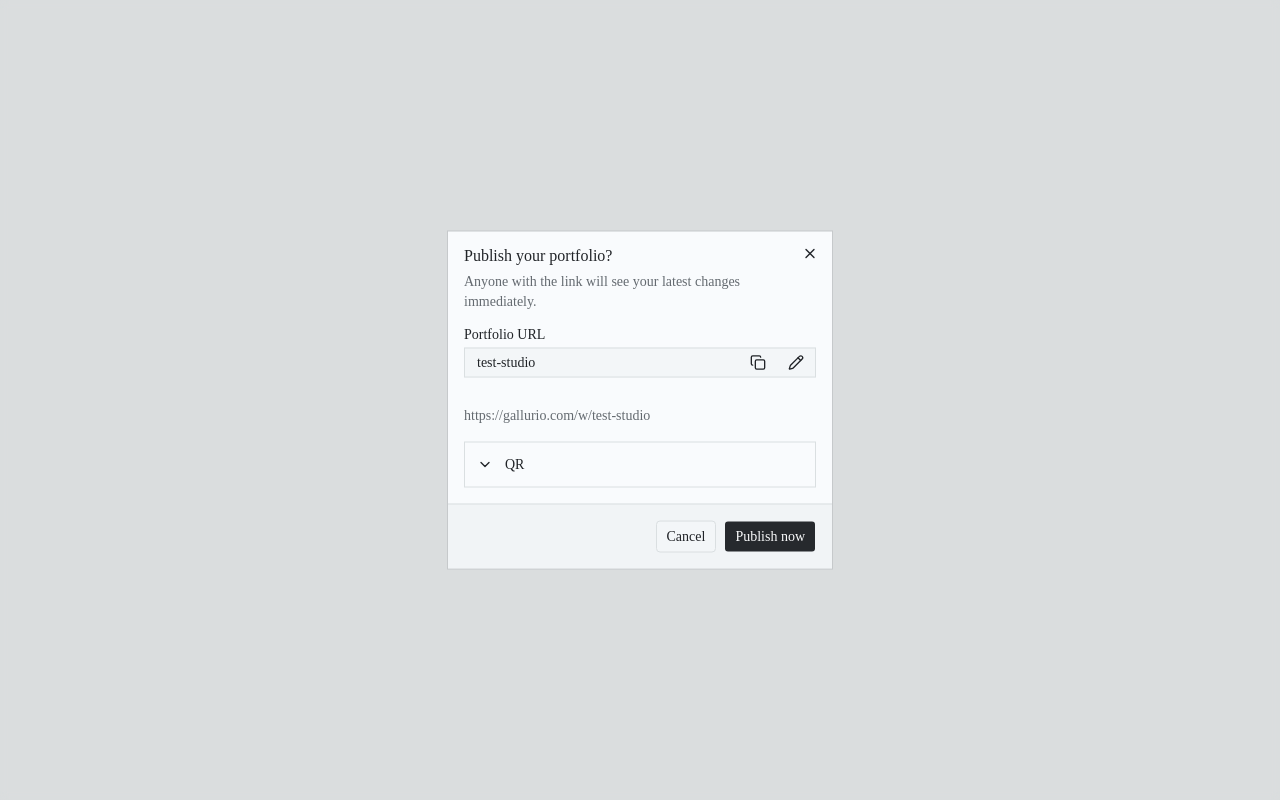
Test: PublishDialog › hides a previously published URL behind an edit control
The width and height of the screenshot is (1280, 800).
Click the button named "edit portfolio url" at (796, 362), box [777,348,815,376]
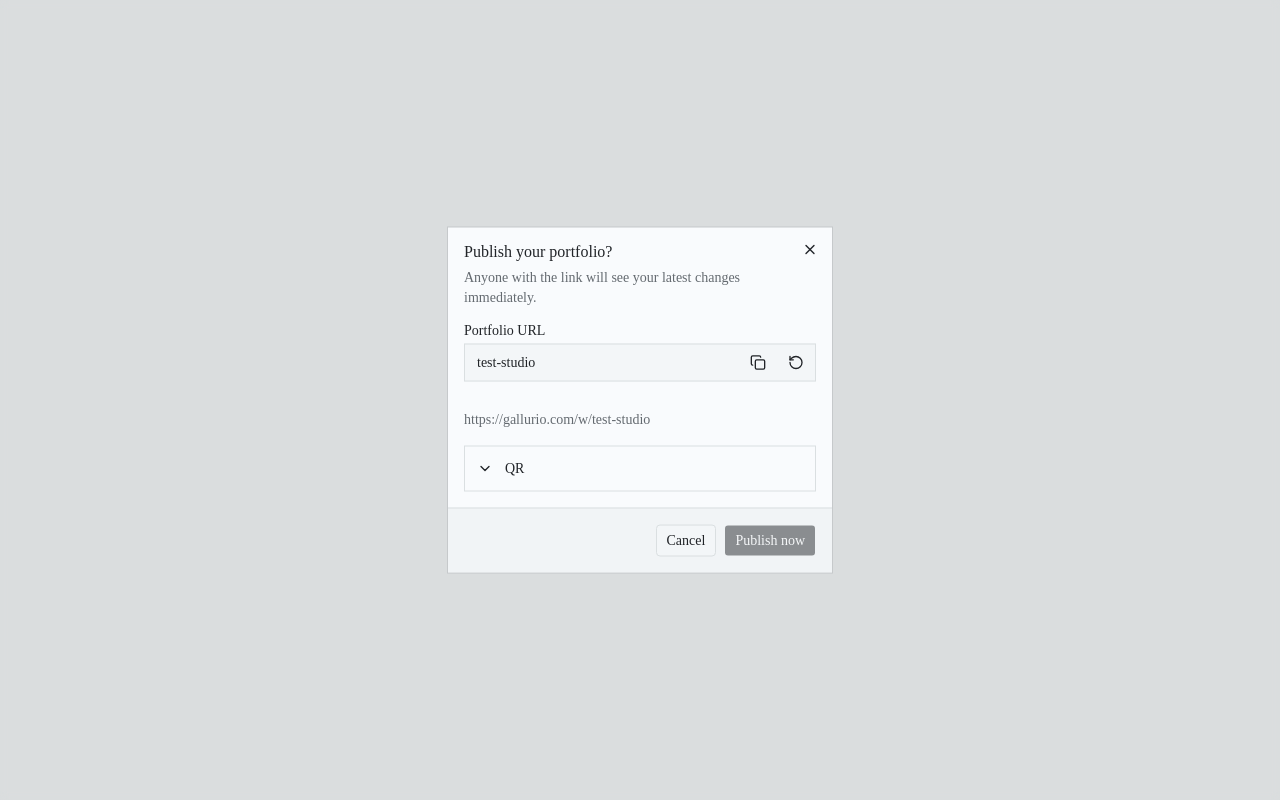
Expected: the field labelled "Portfolio URL" is shown, [465,344,739,380]
Expected: the button "Publish now" is disabled, [724,524,816,556]
Click the button named "cancel" at (796, 362), box [777,348,815,376]
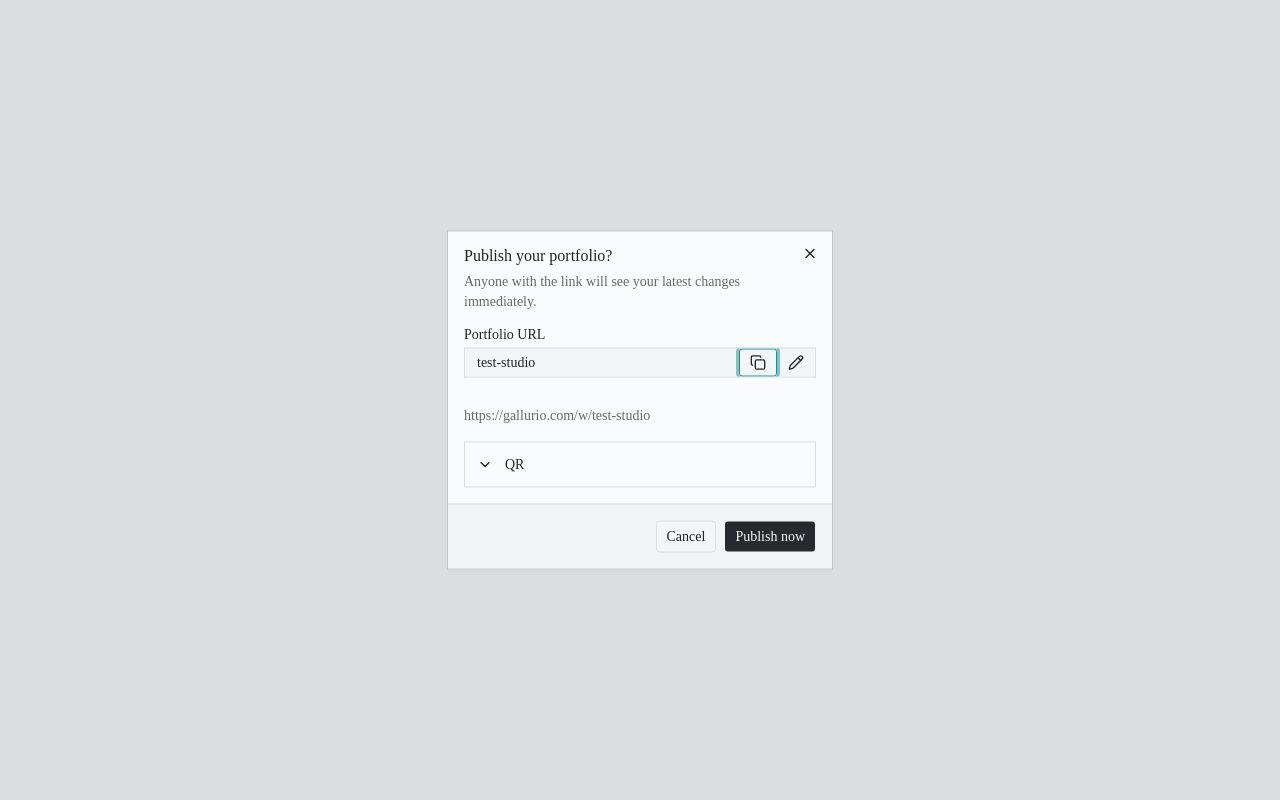
Expected: the button "Publish now" is enabled, [724,520,816,552]
